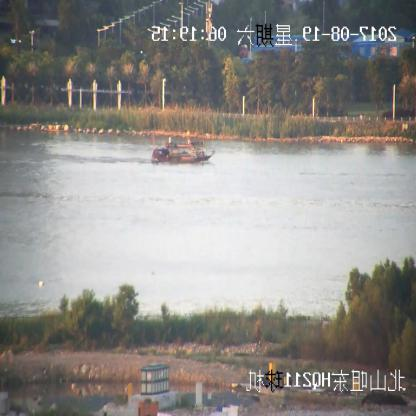Fishing Boat: (153, 137, 214, 165)
